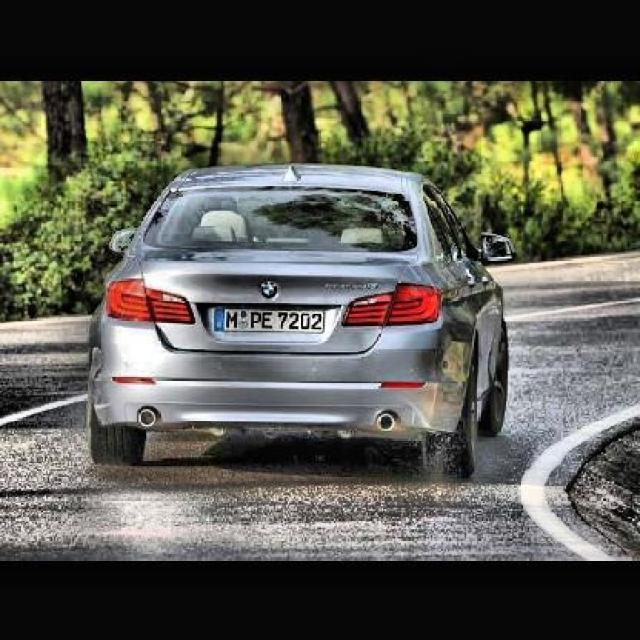silver: (84, 162, 507, 466)
